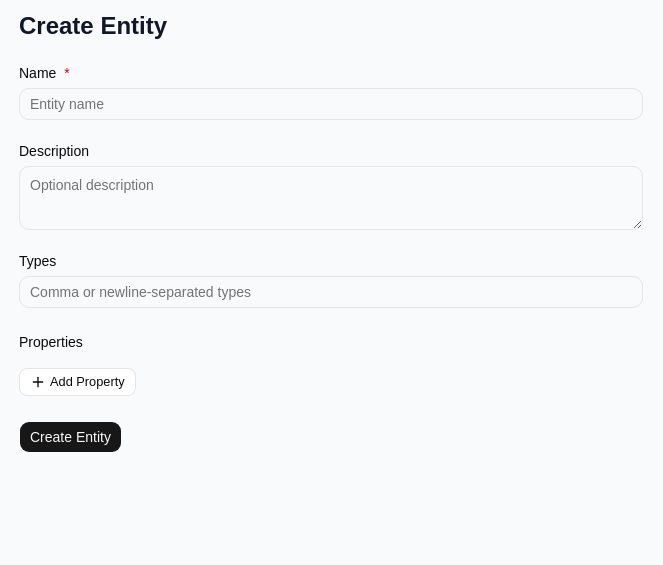
Scenario: CreateEntityPage › error handling › displays error with details from failed polling
The width and height of the screenshot is (663, 565).
In the field with test id "entity-name-input": (331, 104) [19,88,643,120], type "Test Entity"
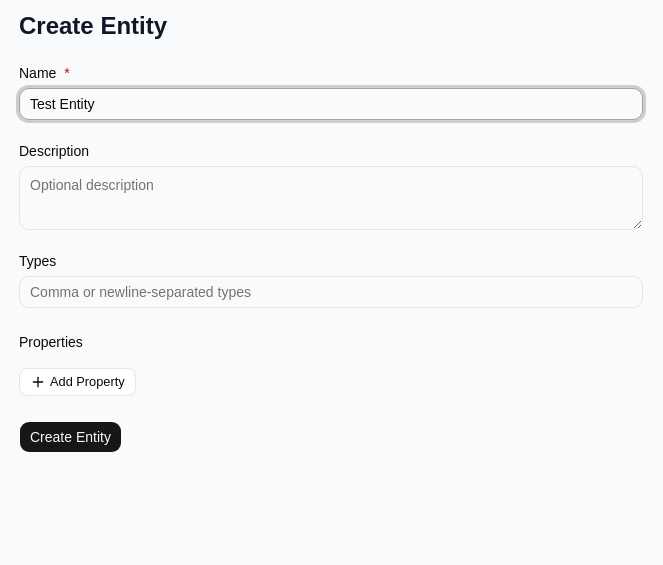
Click the button with test id "entity-submit": (70, 437) [19,421,122,453]
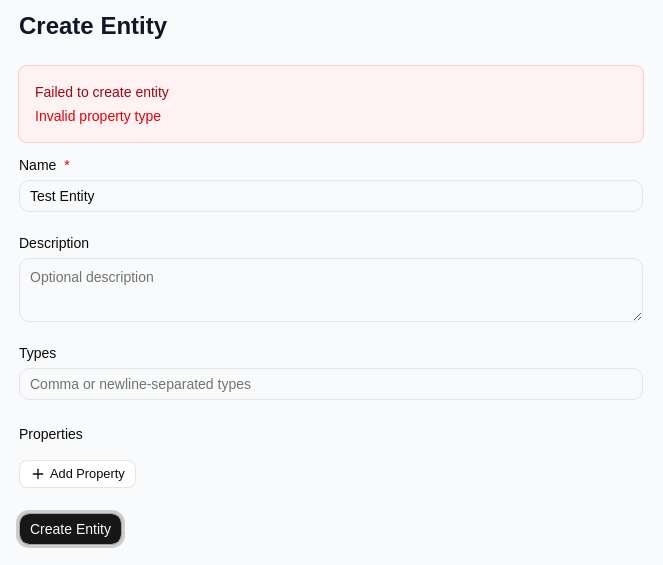
Expected: the element with test id "create-error" is shown, [19,66,643,142]
Expected: the text "Invalid property type" is shown, [35,108,161,124]
